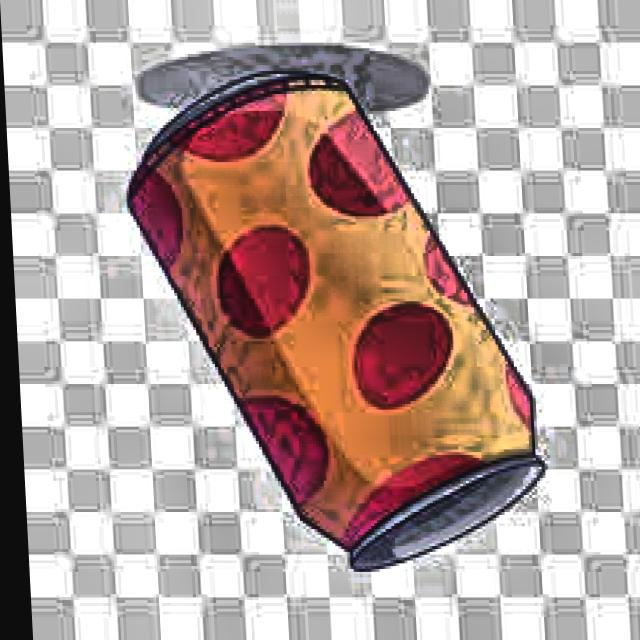can: (104, 44, 549, 594)
